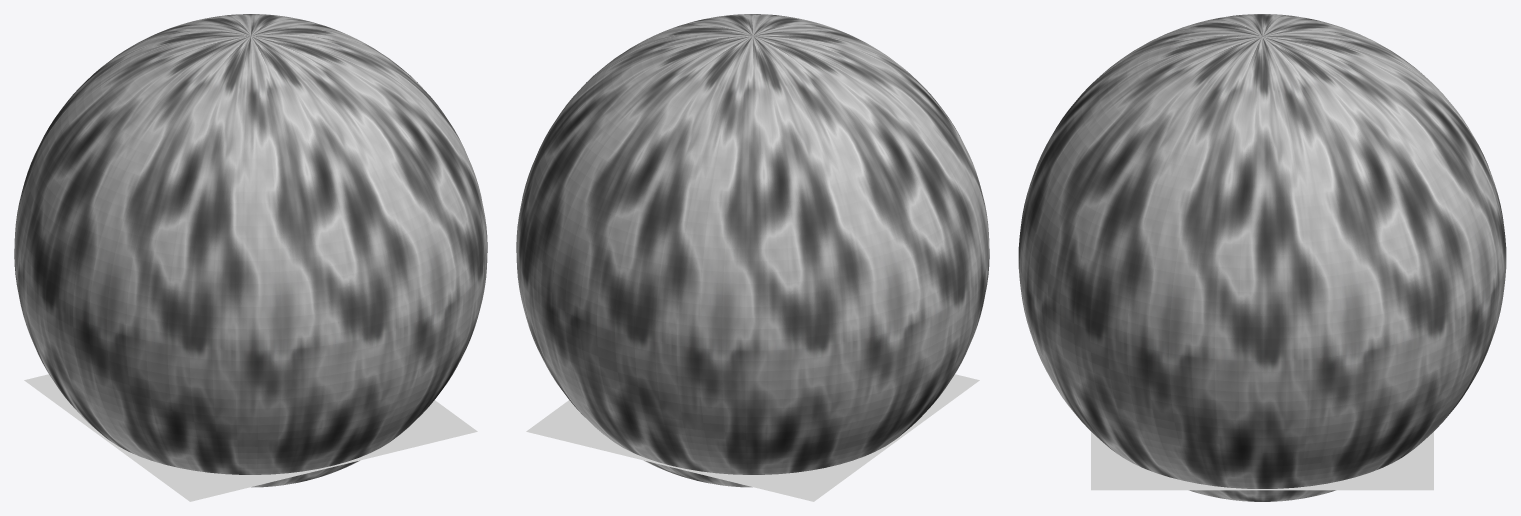
The model's file is DN12_03_Effect.fbx.
The picture shows the model from 3 angles, left to right: view 1: azimuth 30°, elevation 25°; view 2: azimuth 150°, elevation 25°; view 3: azimuth 270°, elevation 25°; orthographic projection. The views are drawn at different scales.
Visible parts, largest first — view 1: swirl_00, light_00; view 2: swirl_00, light_00; view 3: swirl_00, light_00.
Boxes of the visible parts, <box> form: swirl_00: <box>14,14,487,487</box>; light_00: <box>24,374,477,501</box>; swirl_00: <box>516,14,989,487</box>; light_00: <box>526,374,979,501</box>; swirl_00: <box>1018,14,1506,501</box>; light_00: <box>1091,432,1433,490</box>.
Size of the model in its own units: 267 by 267 by 267.
3 materials, 2 textured.
